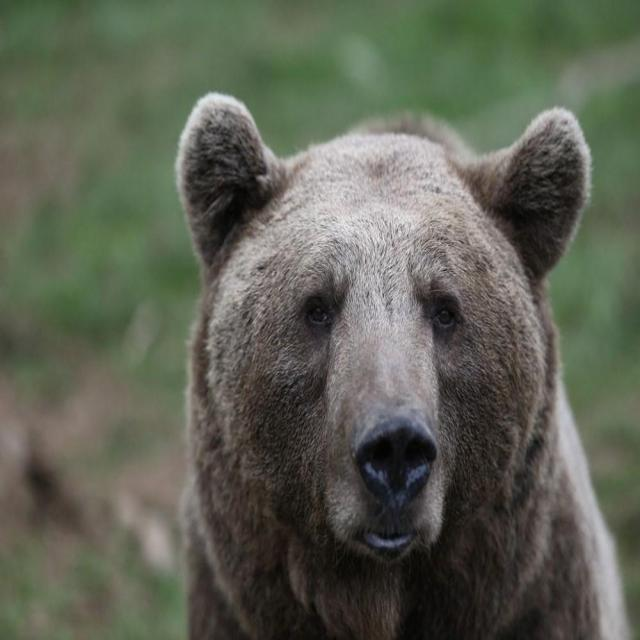Bear: (173, 92, 632, 640)
